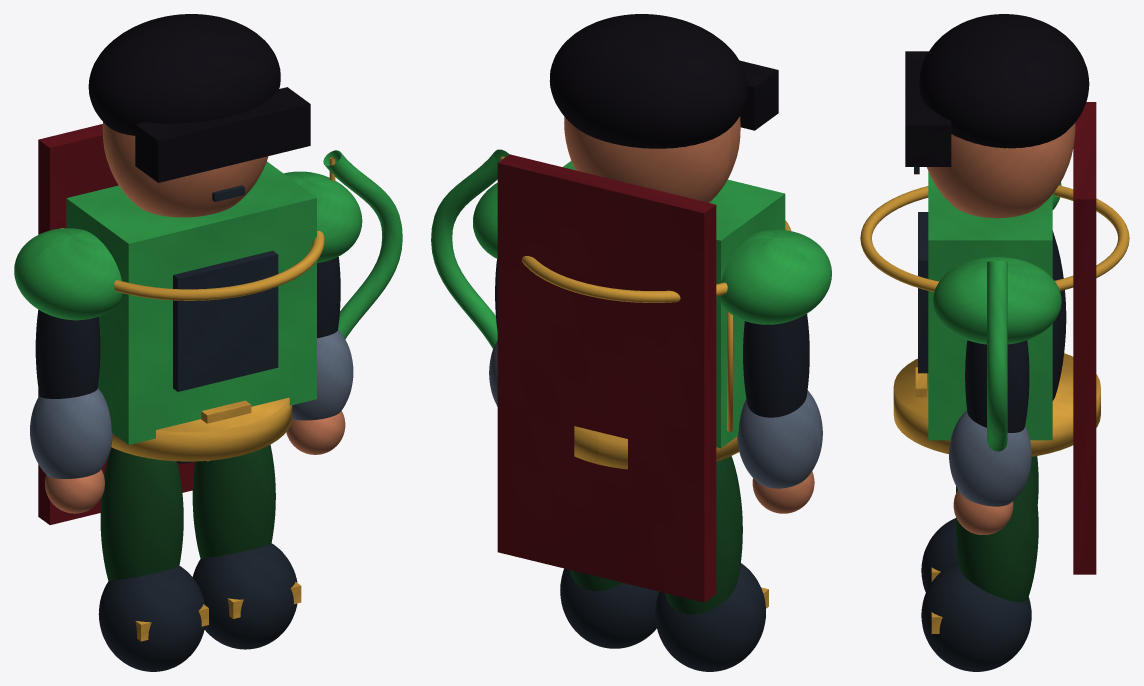
The model's file is Specialization.glb.
3 views of the same model, side by side, from view 1: azimuth 30°, elevation 25°; view 2: azimuth 150°, elevation 25°; view 3: azimuth 270°, elevation 25° (orthographic). The views are drawn at different scales.
Parts seen in each view (by area): view 1: ChestPlate, Hair, ChestInset, HairFringe, Leg, Boot, Boot.001, Leg.001, Shoulder, Cape, Head, Gauntlet (+10 smaller); view 2: Cape, Hair, Shoulder, Head, ChestPlate, Boot, Arm, Gauntlet, Boot.001, Bow, Leg, ShoulderCrest (+6 smaller); view 3: Hair, ChestPlate, Cape, Head, Boot.001, Shoulder.001, Leg.001, Gauntlet.001, WaistGuard, Bow, Arm.001, ShoulderCrest (+5 smaller).
Boxes of the visible parts, left/top/right/bottom form: ChestPlate: left=66, top=161, right=316, bottom=444; Hair: left=88, top=14, right=280, bottom=135; ChestInset: left=173, top=250, right=278, bottom=391; HairFringe: left=135, top=87, right=310, bottom=182; Leg: left=100, top=447, right=183, bottom=581; Boot: left=98, top=566, right=205, bottom=671; Boot.001: left=192, top=543, right=297, bottom=649; Leg.001: left=192, top=444, right=275, bottom=558; Shoulder: left=14, top=228, right=122, bottom=320; Cape: left=38, top=124, right=194, bottom=524; Head: left=102, top=122, right=268, bottom=217; Gauntlet: left=30, top=388, right=112, bottom=478; Cape: left=497, top=154, right=716, bottom=602; Hair: left=549, top=14, right=747, bottom=148; Shoulder: left=718, top=229, right=831, bottom=324; Head: left=564, top=116, right=740, bottom=202; ChestPlate: left=562, top=161, right=785, bottom=448; Boot: left=655, top=563, right=765, bottom=671; Arm: left=743, top=314, right=809, bottom=417; Gauntlet: left=737, top=390, right=822, bottom=488; Boot.001: left=560, top=568, right=658, bottom=648; Bow: left=431, top=149, right=509, bottom=348; Leg: left=665, top=456, right=742, bottom=614; ShoulderCrest: left=521, top=220, right=791, bottom=302; Hair: left=919, top=14, right=1089, bottom=148; ChestPlate: left=928, top=171, right=1052, bottom=440; Cape: left=1073, top=102, right=1096, bottom=574; Head: left=927, top=123, right=1075, bottom=218; Boot.001: left=921, top=562, right=1031, bottom=671; Shoulder.001: left=933, top=257, right=1061, bottom=344; Leg.001: left=956, top=467, right=1038, bottom=602; Gauntlet.001: left=949, top=410, right=1031, bottom=506; WaistGuard: left=893, top=353, right=1100, bottom=456; Bow: left=987, top=261, right=1007, bottom=451; Arm.001: left=965, top=340, right=1029, bottom=432; ShoulderCrest: left=860, top=185, right=1129, bottom=291.
Bounding box in the file's own units: 1.88 × 2.96 × 1.17.
Materials: 11 (9 with a texture image).
